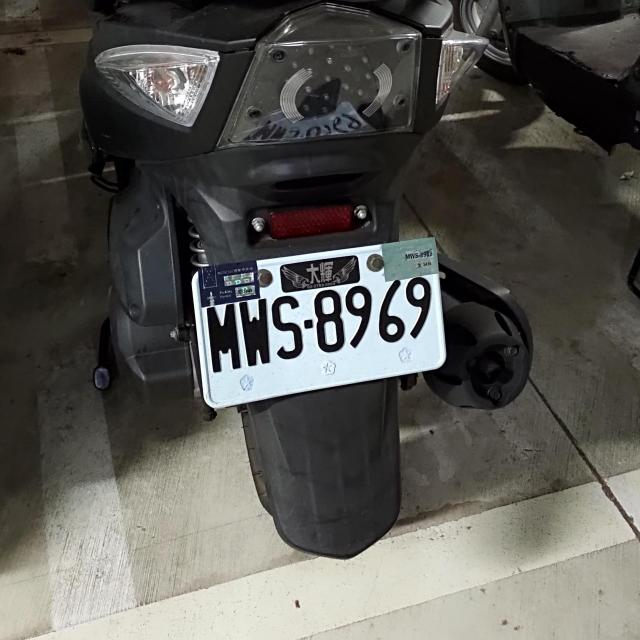W: (187, 240, 447, 402)
